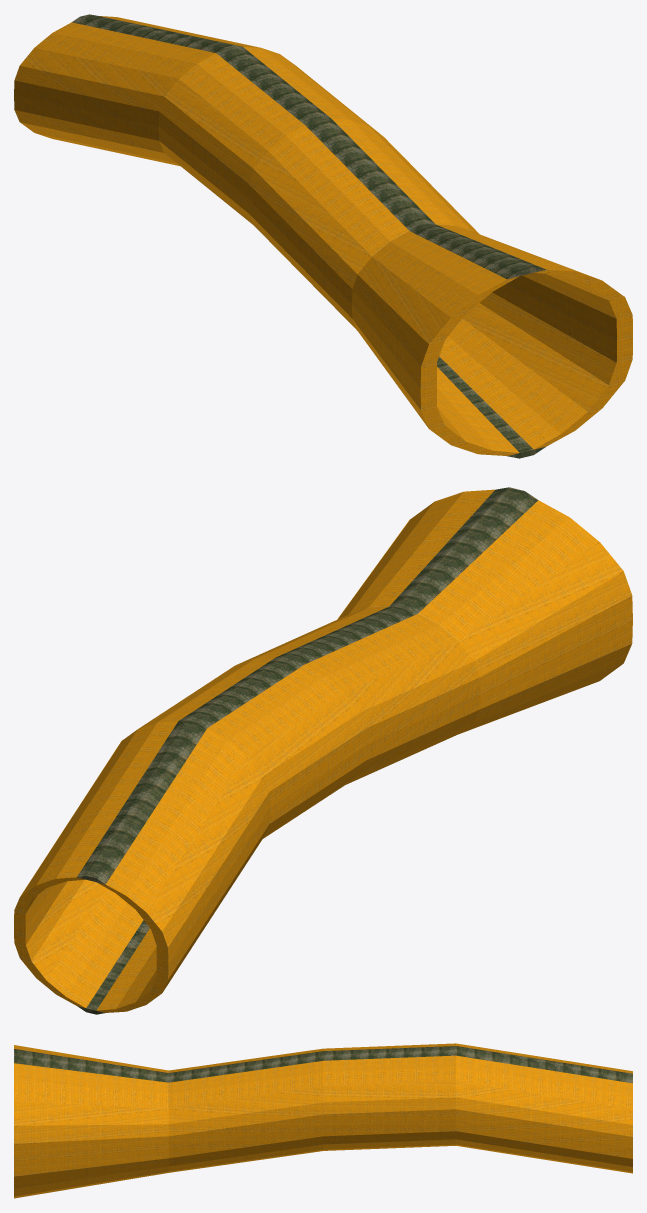
The picture shows the model from 3 angles, top to bottom: view 1: azimuth 30°, elevation 25°; view 2: azimuth 150°, elevation 25°; view 3: azimuth 270°, elevation 25°; orthographic projection. The views are drawn at different scales.
Visible parts, largest first — view 1: tube1; view 2: tube1; view 3: tube1.
Boxes of the visible parts, x1,y1,x2,y2 form: tube1: [14, 14, 632, 458]; tube1: [14, 487, 632, 1014]; tube1: [14, 1043, 632, 1198].
Size of the model in its own units: 33 by 28.62 by 112.
Materials: 2 (2 with a texture image).
